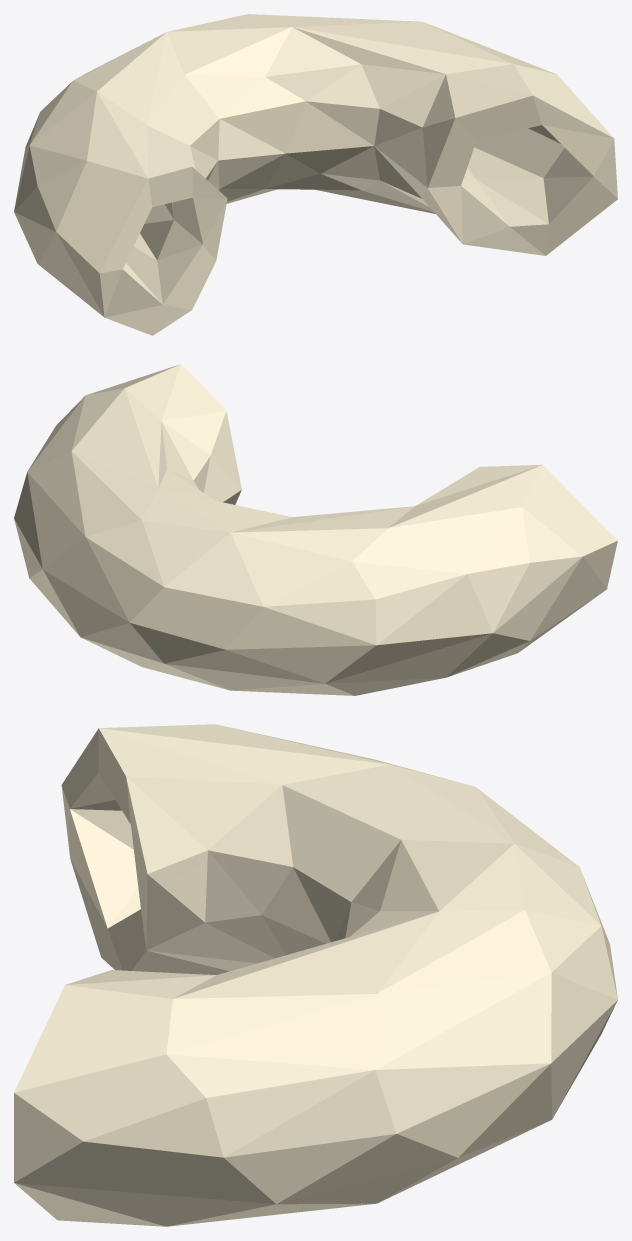
The model's file is Macaroni.fbx.
3 views of the same model, one above another, from view 1: azimuth 30°, elevation 25°; view 2: azimuth 150°, elevation 25°; view 3: azimuth 270°, elevation 25° (orthographic). The views are drawn at different scales.
Parts seen in each view (by area): view 1: Macaroni; view 2: Macaroni; view 3: Macaroni.
Boxes of the visible parts, box(x1,y1,x2,y2) form: Macaroni: box(14, 14, 617, 335); Macaroni: box(14, 364, 617, 695); Macaroni: box(14, 724, 617, 1226).
Bounding box in the file's own units: 283 × 83.11 × 199.
